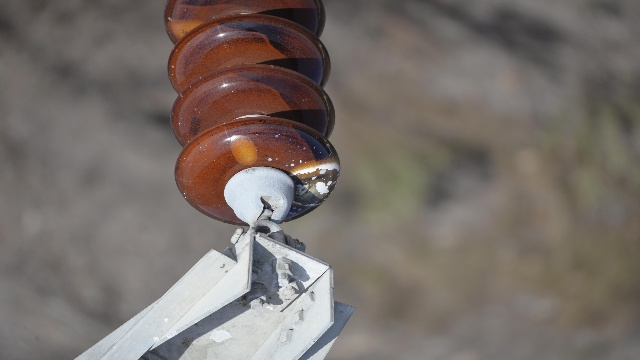insulator_unspecified: (164, 0, 340, 225)
pollution_flashover_local: (290, 157, 339, 209), (226, 132, 261, 167)
